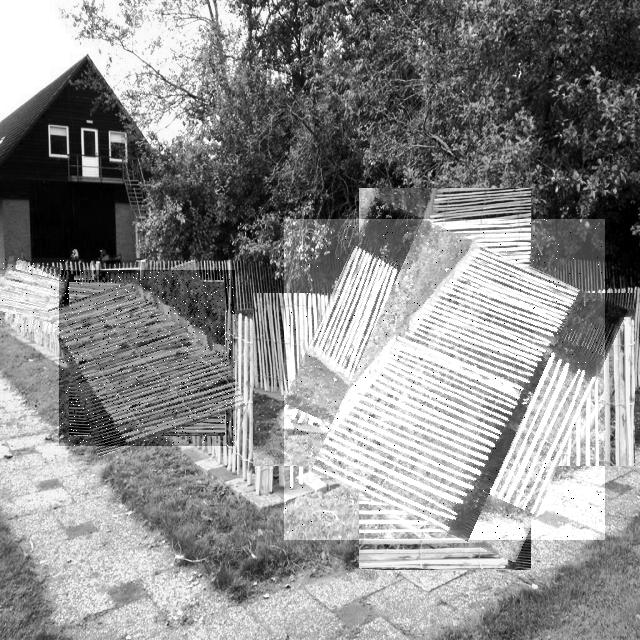fences: (284, 219, 605, 540), (59, 270, 235, 446), (0, 258, 66, 332)
